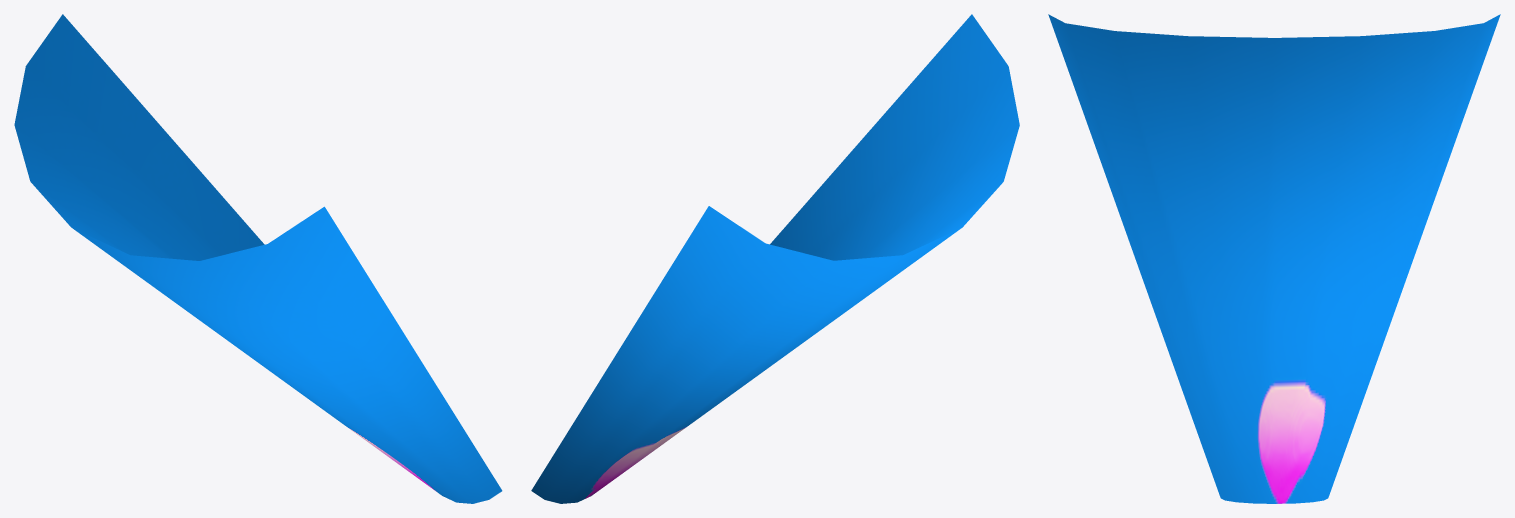
The model's file is p_foamgun_liquidsplash01_cylinder.fbx.
The picture shows the model from 3 angles, left to right: view 1: azimuth 30°, elevation 25°; view 2: azimuth 150°, elevation 25°; view 3: azimuth 270°, elevation 25°; orthographic projection. The views are drawn at different scales.
Parts seen in each view (by area): view 1: Fluid2; view 2: Fluid2; view 3: Fluid2.
Boxes of the visible parts, x1=… form: Fluid2: x1=14, y1=14, x2=502, y2=503; Fluid2: x1=531, y1=14, x2=1019, y2=503; Fluid2: x1=1048, y1=14, x2=1500, y2=503.
Size of the model in its own units: 0.813 by 0.867 by 0.923.
